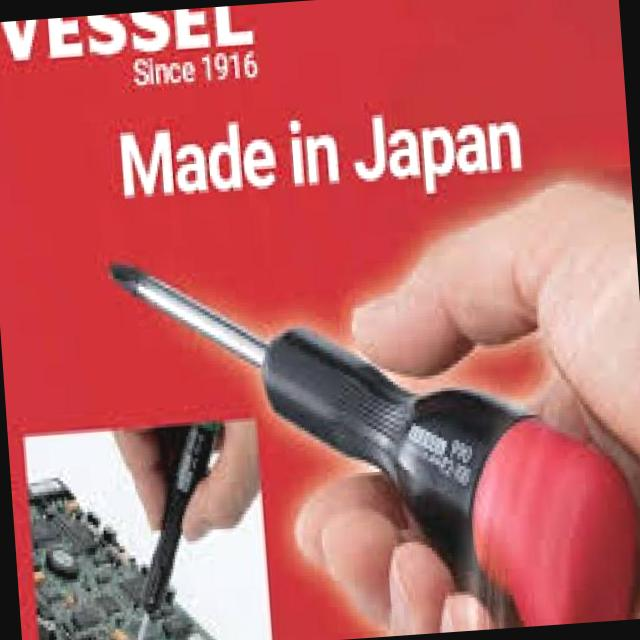screwdriver: (113, 265, 638, 628)
